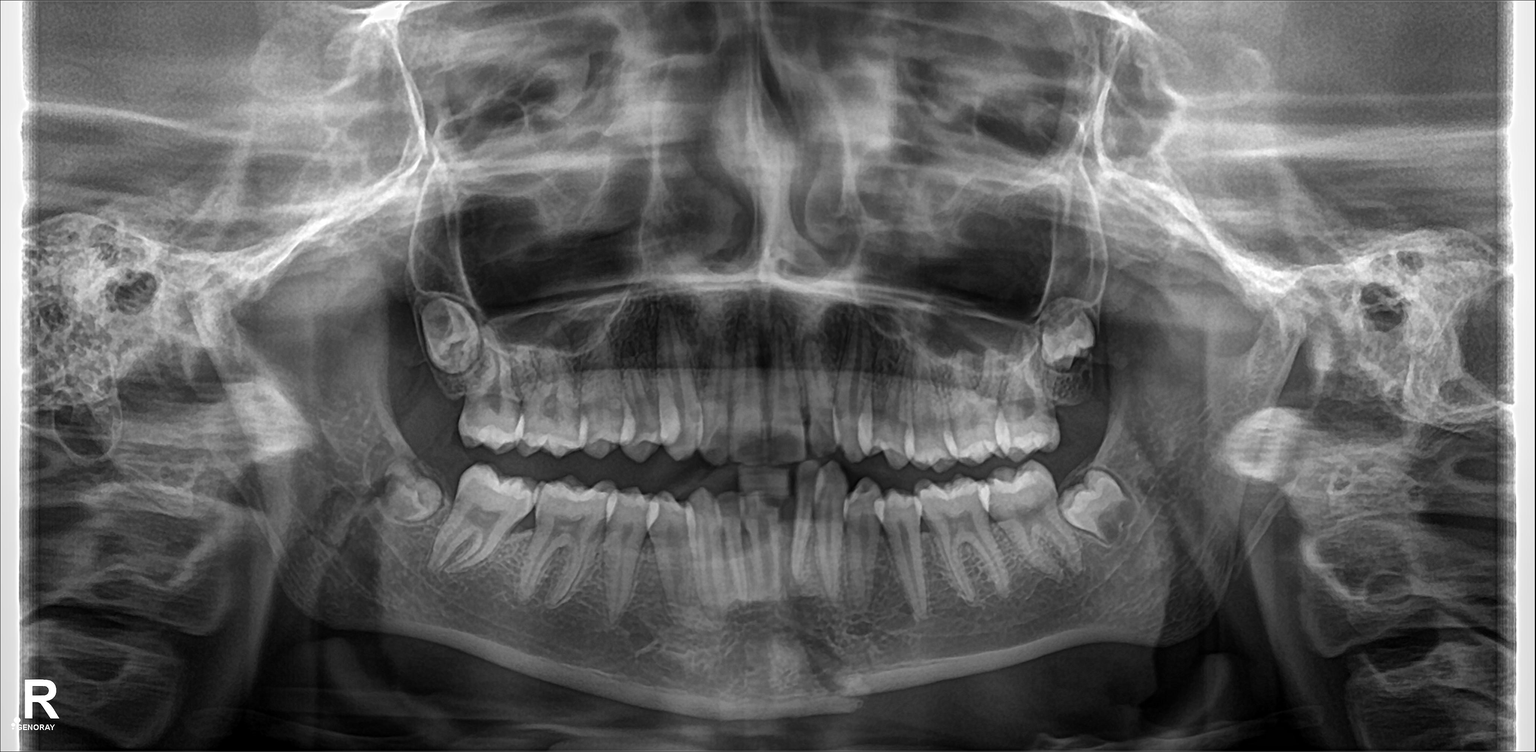Dental Caries: (767, 428, 802, 463), (732, 434, 761, 465)
Impacted Third Molar: (406, 303, 486, 369), (1075, 475, 1141, 545), (380, 463, 444, 532), (1043, 318, 1098, 362)
Missing Tooth: (1045, 322, 1110, 434)
